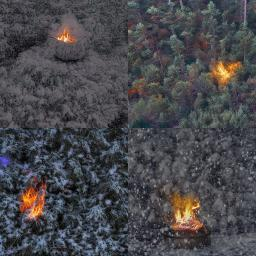Small fire: (169, 195, 204, 235), (18, 181, 49, 221), (210, 60, 243, 87), (55, 26, 77, 46)
